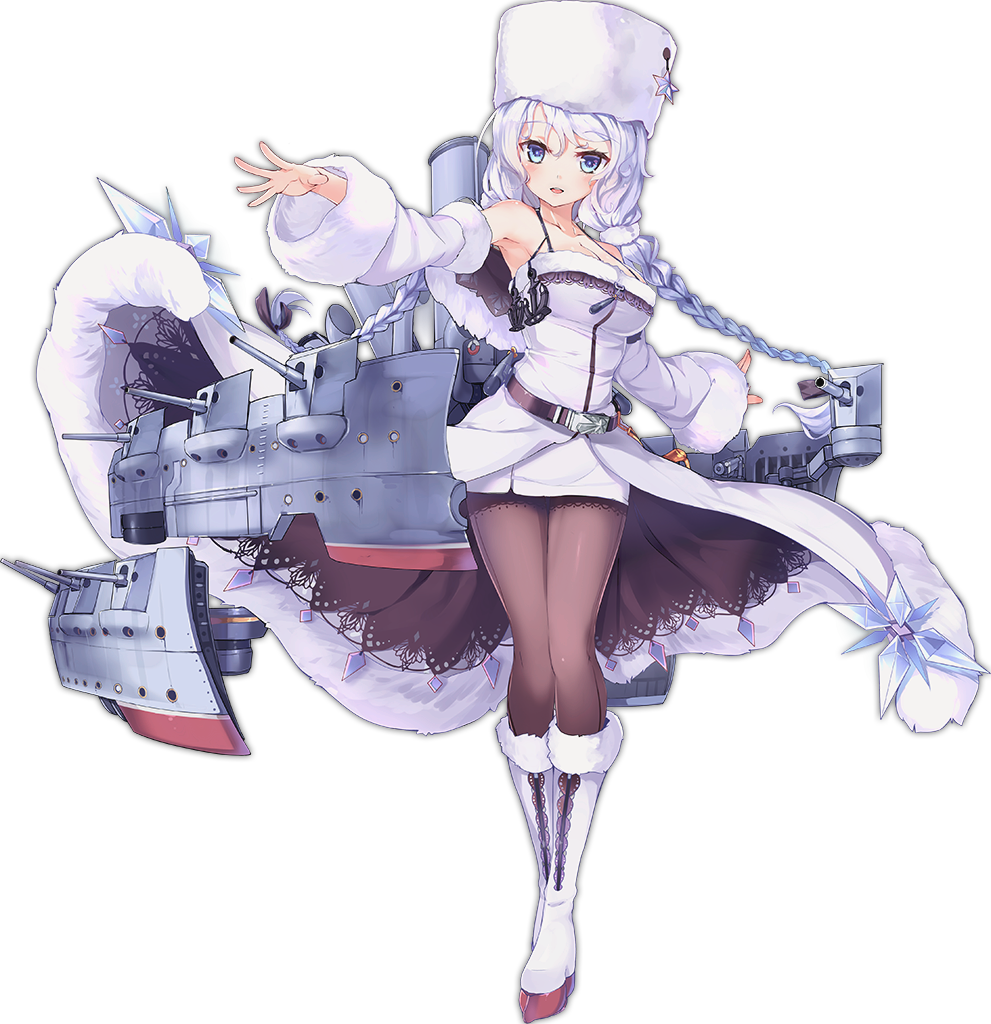person: (311, 44, 734, 801)
